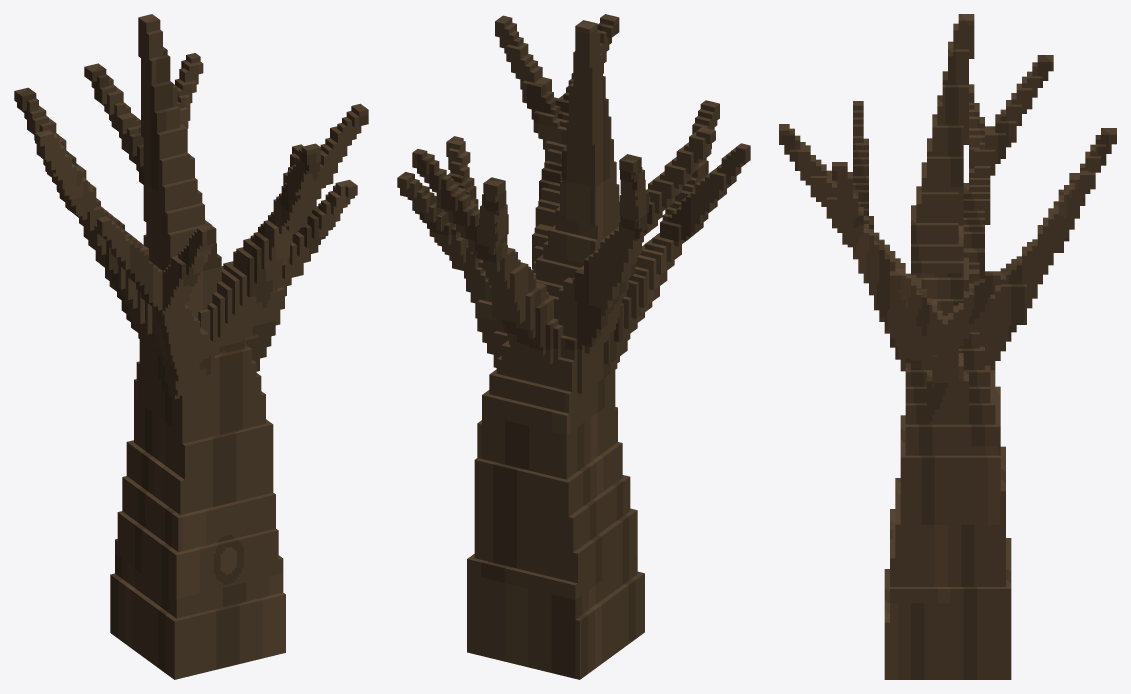
Rendered from oak_mature_winter.glb.
3 views of the same model, side by side, from view 1: azimuth 30°, elevation 25°; view 2: azimuth 150°, elevation 25°; view 3: azimuth 270°, elevation 25° (orthographic). The views are drawn at different scales.
Visible parts, largest first — view 1: VoxelVisual; view 2: VoxelVisual; view 3: VoxelVisual.
Part boxes in pixels (x1,y1,x2,y2): VoxelVisual: (14,14,368,679); VoxelVisual: (397,14,750,679); VoxelVisual: (779,14,1116,679).
Size of what is drawn, in the model's own units: 7.75 by 16.12 by 8.
